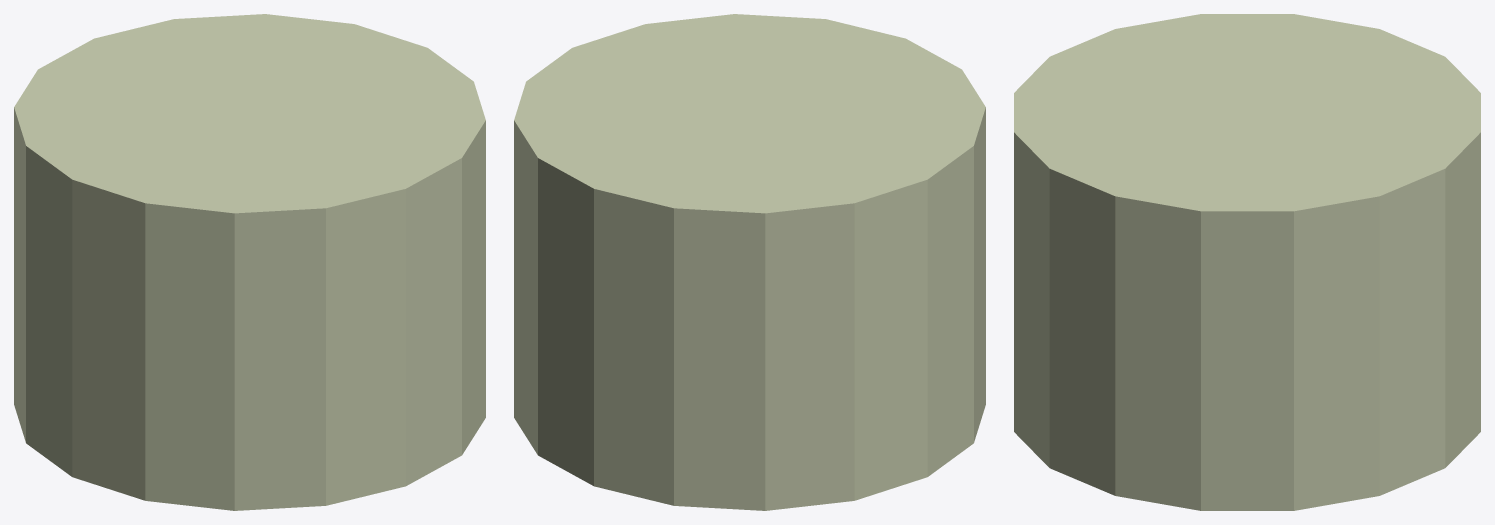
Rendered from ALV_2_Engine_1_Collider.obj.
3 renders of one model, left to right at view 1: azimuth 30°, elevation 25°; view 2: azimuth 150°, elevation 25°; view 3: azimuth 270°, elevation 25°, orthographic.
Parts seen in each view (by area): view 1: ALV_2_Engine_1_Collider; view 2: ALV_2_Engine_1_Collider; view 3: ALV_2_Engine_1_Collider.
Part boxes in pixels (x1,y1,x2,y2): ALV_2_Engine_1_Collider: [14, 14, 485, 510]; ALV_2_Engine_1_Collider: [514, 14, 985, 510]; ALV_2_Engine_1_Collider: [1014, 14, 1480, 510].
Size of the model in its own units: 2.5 by 1.77 by 2.5.
